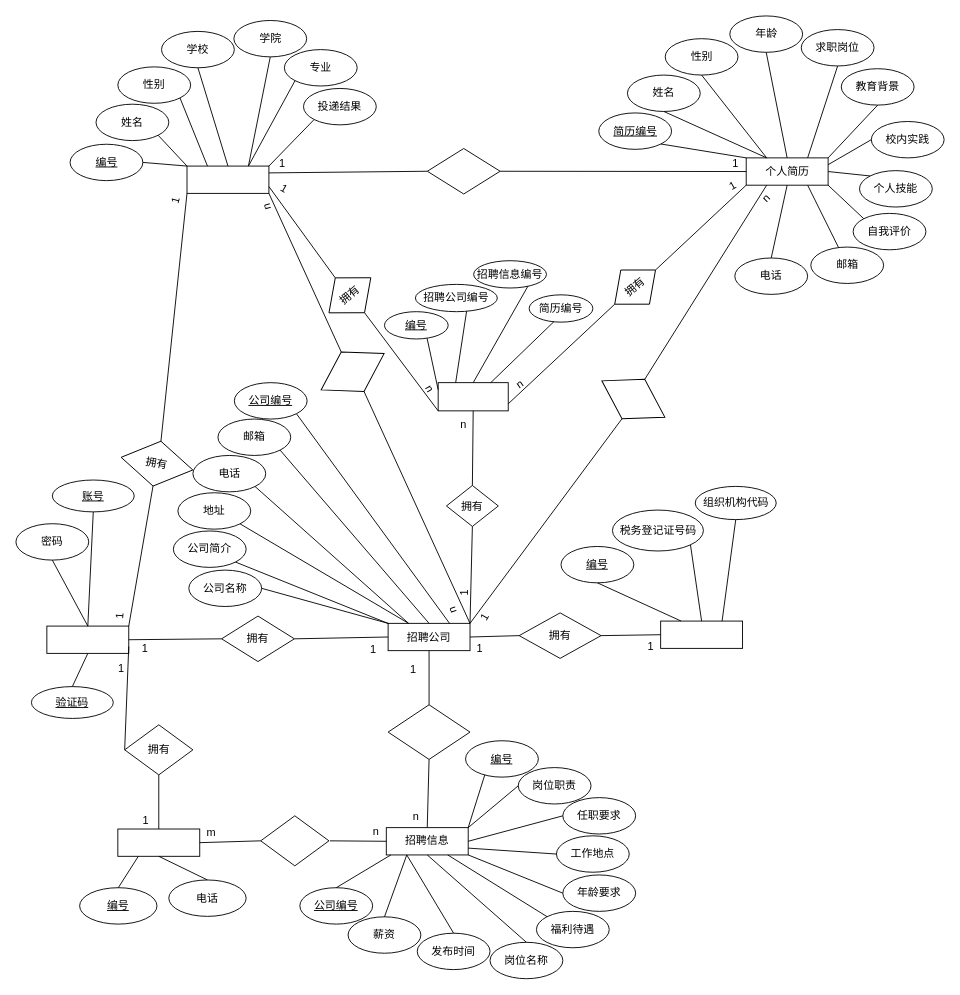
This 960x995 diagram has some shape labels left out. Each missing label, with the centre of its shape:
"公司认证信息" belongs at point 701,634.
"发布" belongs at point 428,731.
"在校生" belongs at point 227,179.
"投递记录" belongs at point 472,396.
"查看" belongs at point 632,398.
"用户" belongs at point 87,639.
"管理" belongs at point 294,840.
"管理员" belongs at point 158,842.
"编辑" belongs at point 463,171.
"通知" belongs at point 352,371.
